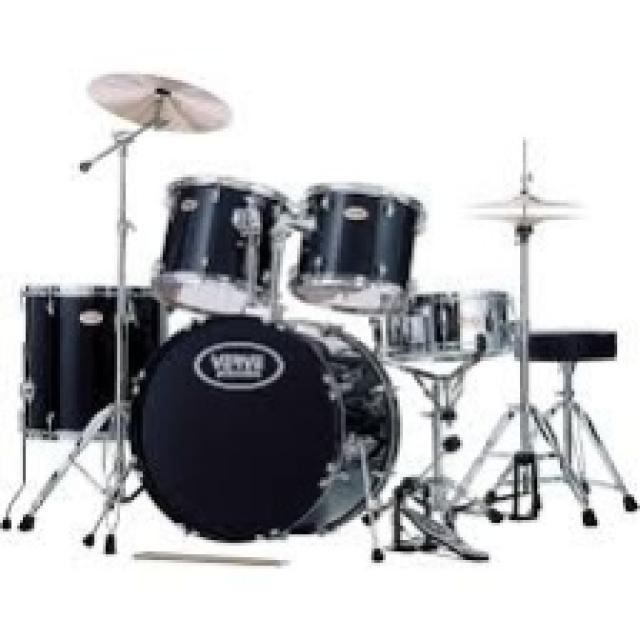drums: (11, 56, 640, 572)
